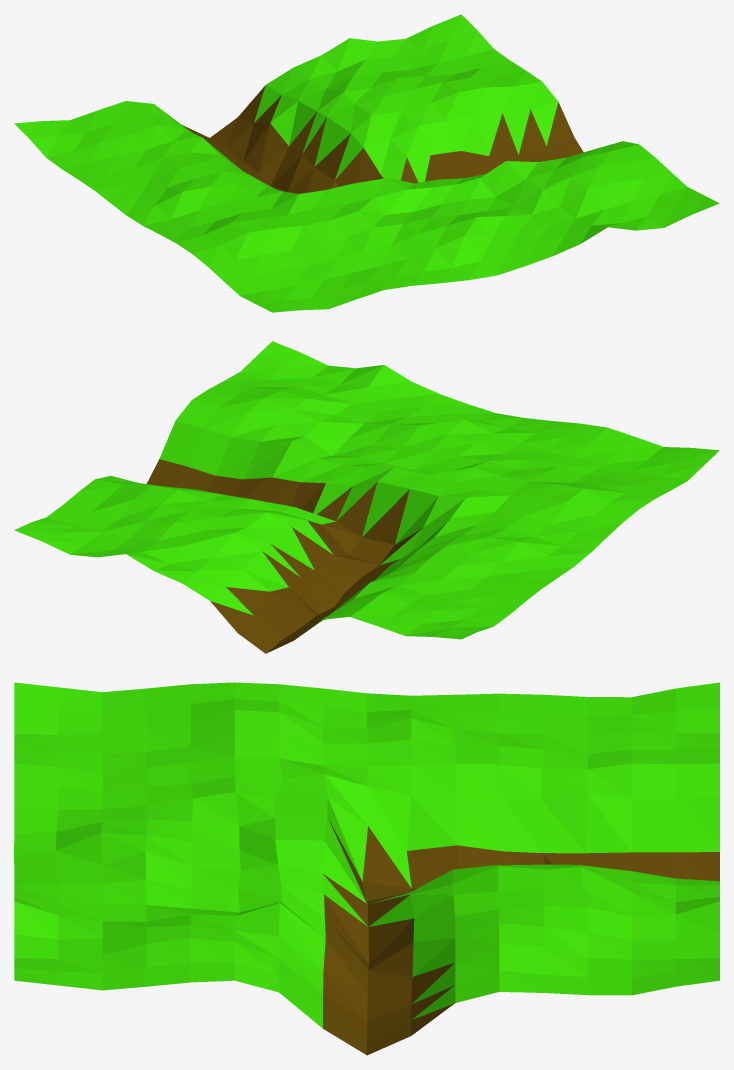
File: oja_left_bottom_corner.fbx
3 views of the same model, one above another, from view 1: azimuth 30°, elevation 25°; view 2: azimuth 150°, elevation 25°; view 3: azimuth 270°, elevation 25° (orthographic). The views are drawn at different scales.
Visible parts, largest first — view 1: oja_Left_Botttom_Corner; view 2: oja_Left_Botttom_Corner; view 3: oja_Left_Botttom_Corner.
Boxes of the visible parts, bbox=[...] form: oja_Left_Botttom_Corner: bbox=[14, 14, 719, 312]; oja_Left_Botttom_Corner: bbox=[14, 341, 719, 653]; oja_Left_Botttom_Corner: bbox=[14, 682, 719, 1055].
Size of the model in its own units: 2000 by 335 by 2001.
